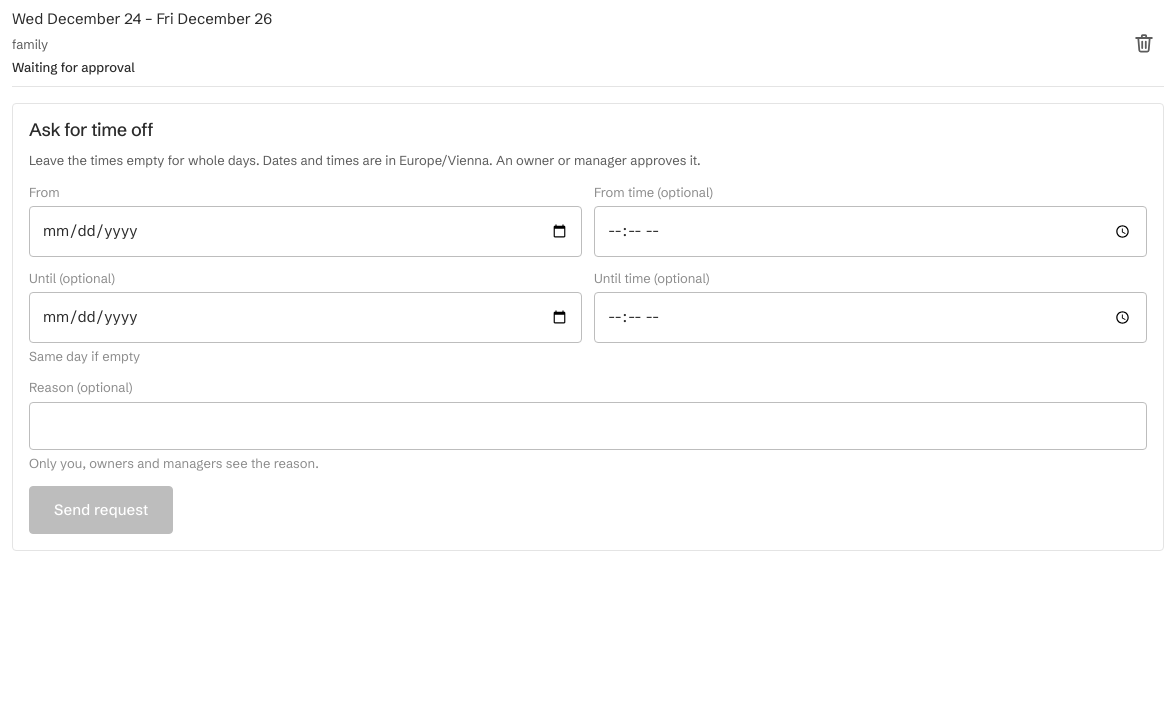
Test: TimeOff › sends a staff member's own as a request, and lets them withdraw it
Later steps or results of the test are not shown.
Expected: the list named "Upcoming time off" is shown, [12,0,1164,86]
Expected: the text "Waiting for approval" is shown, [12,59,135,75]
Type "2032-02-01" into the date field labelled "From" at (306, 232), box [29,206,582,257]
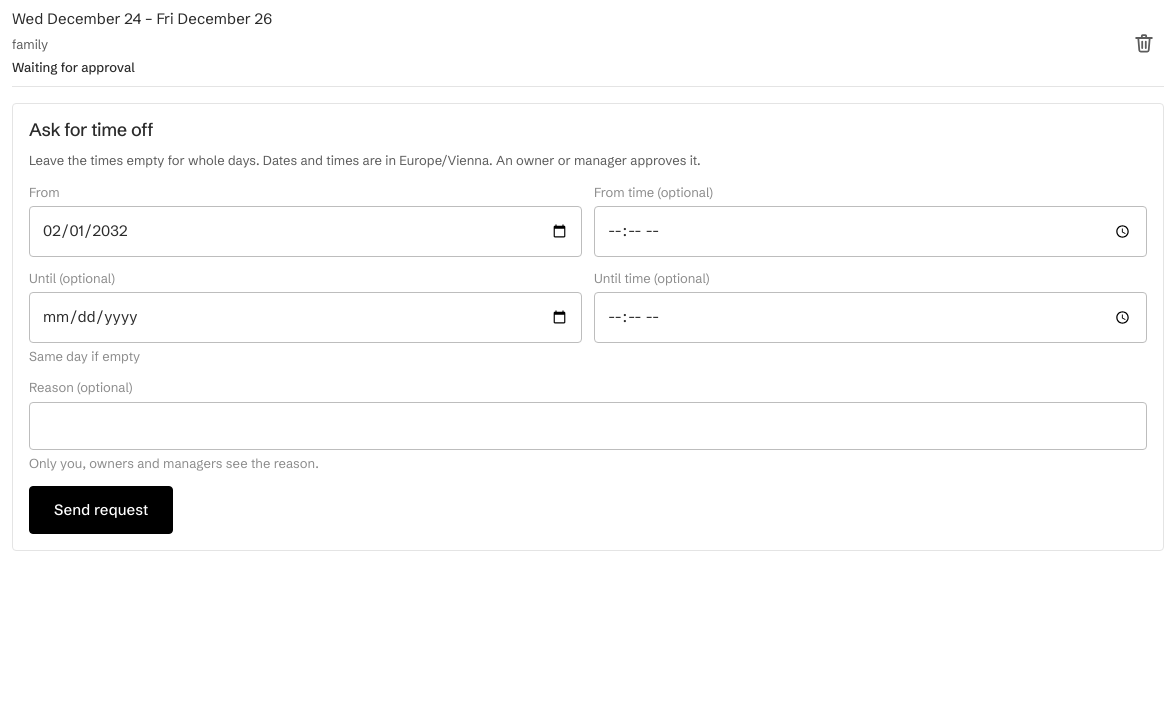
Click the button "Send request" at (101, 510), box [29,486,173,534]
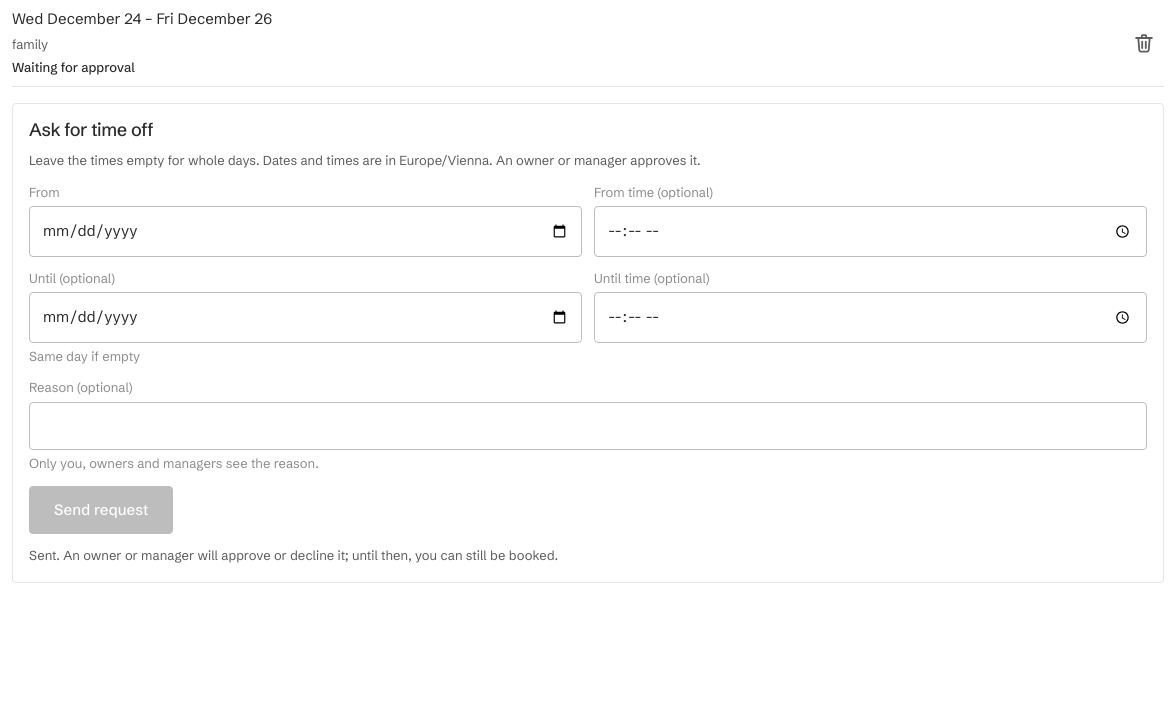
Expected: the text "An owner or manager will approve or decline it" is shown, [29,547,558,563]
